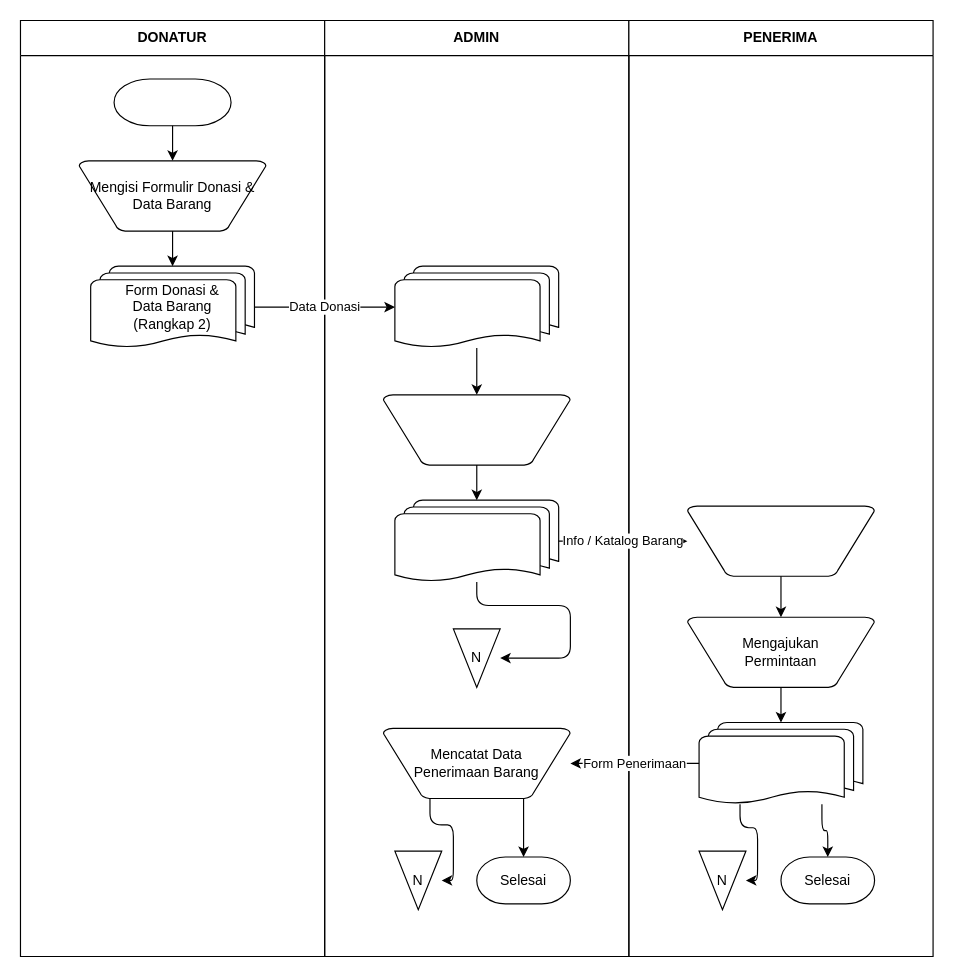
The diagram is 954 pixels wide and 977 high, and some of its shapes have lost their labels. The centre of each missing label's shape, as x and y in pixels:
"Buku Data Barang & Arsip Bukti" goes at (476,540).
"Form Donasi & Data Barang" goes at (476,306).
"Form Penerimaan & Bukti (Rangkap 2)" goes at (780,762).
"Mencari barang yang ingin diminta" goes at (780,540).
"Mencatat & Membukukan Data Donasi" goes at (476,429).
"Mulai" goes at (172,102).
